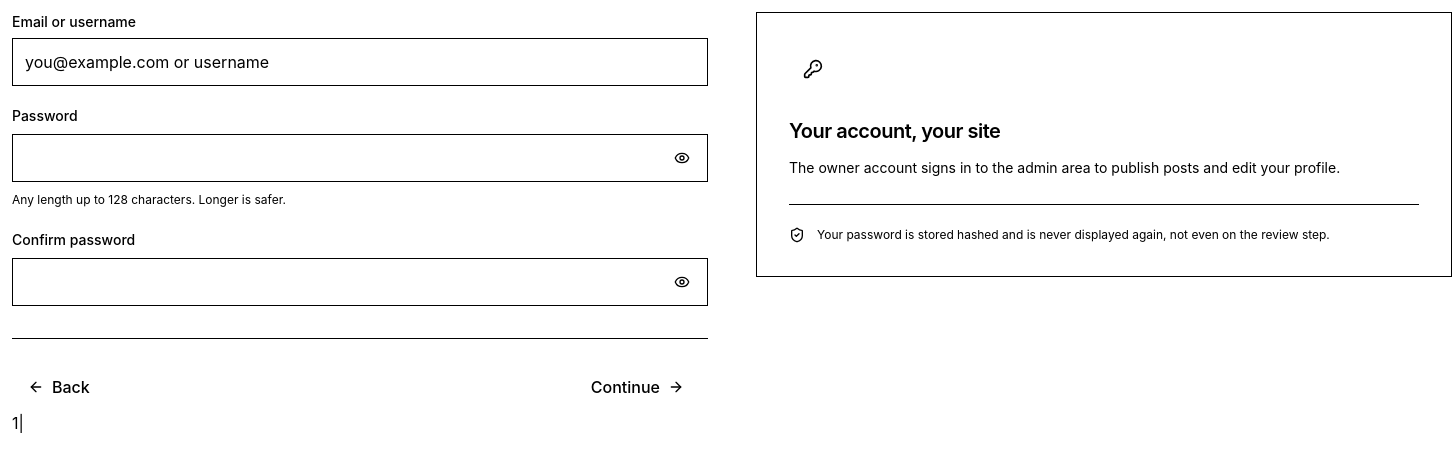
OwnerStep › Given the password toggles, should reveal each field independently and keep the values
Type "::password::-12345" into the password field labelled "Password".
click(360, 158); type("::password::-12345")  # box [12,134,708,182]
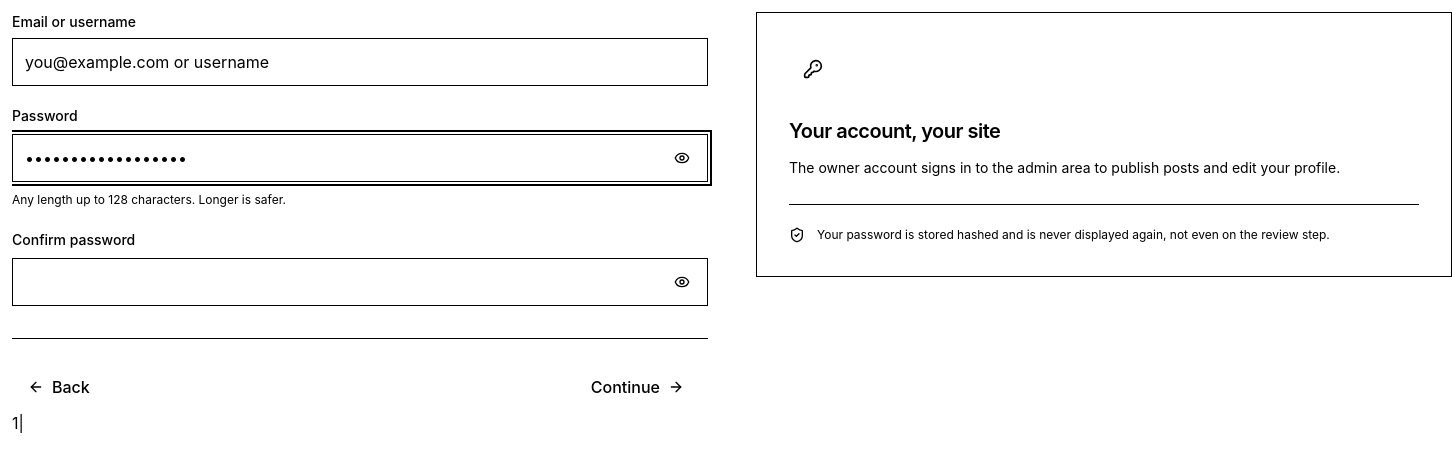
Press Tab
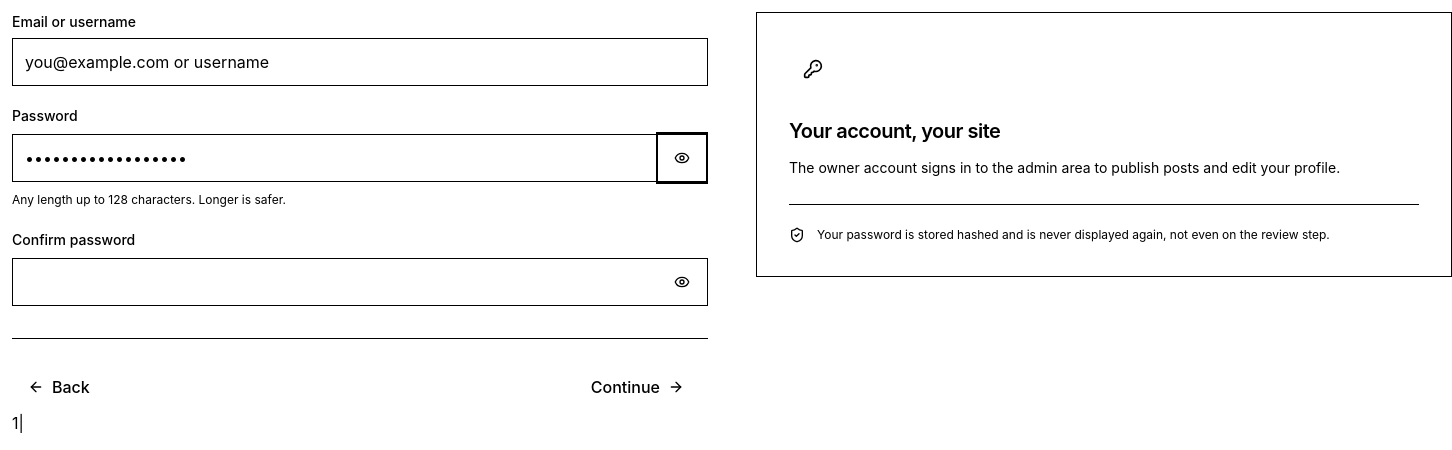
Press Enter
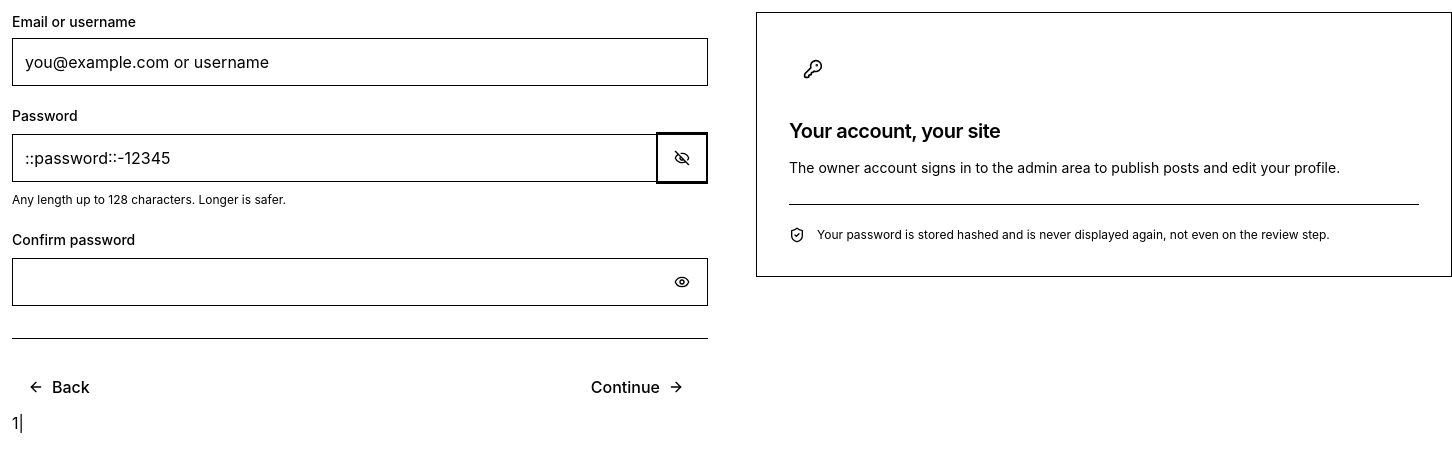
Now the field labelled "Password" shows its text, box [12,134,708,182]
Now the button named "Hide password" is shown, box [660,136,704,180]
Type "::password::-12345" into the password field labelled "Confirm password".
click(360, 282); type("::password::-12345")  # box [12,258,708,306]
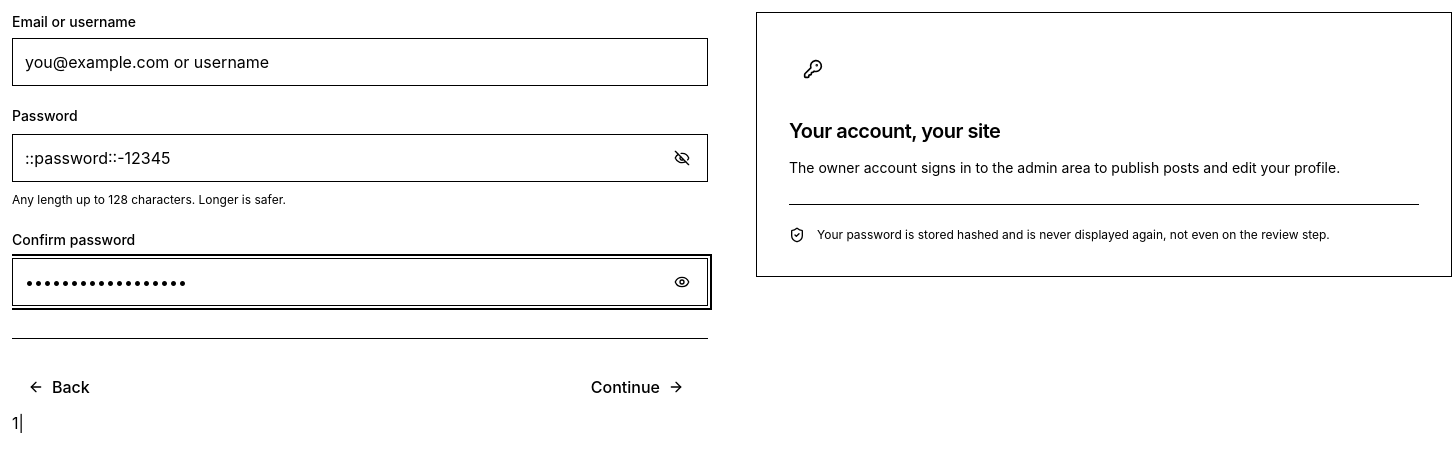
Click the button named "Show password".
click(682, 282)  # box [660,260,704,304]
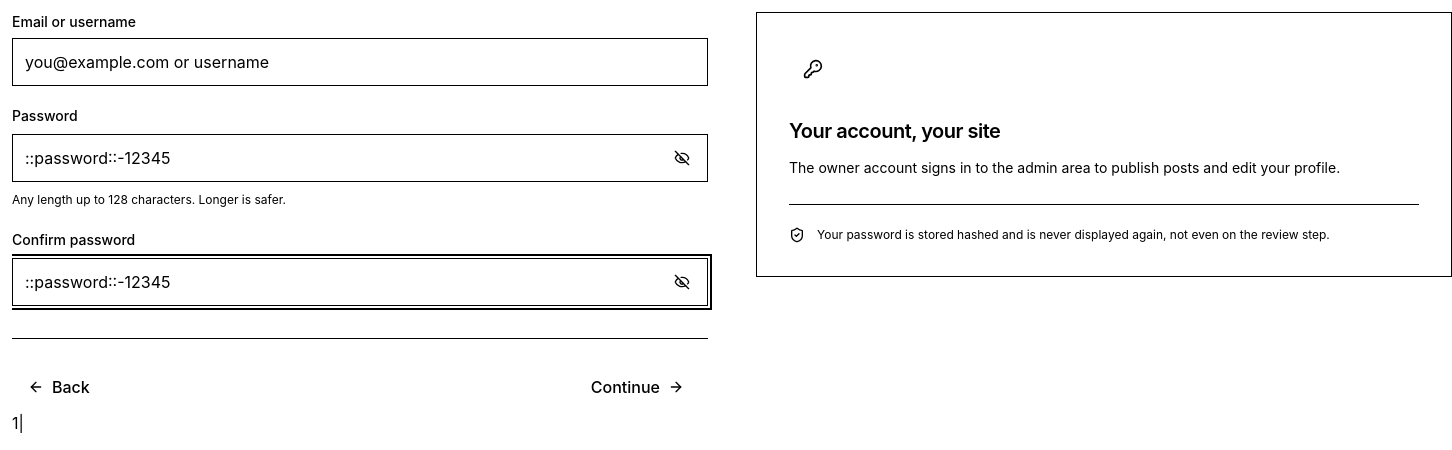
Now the field labelled "Confirm password" shows its text, box [12,258,708,306]
